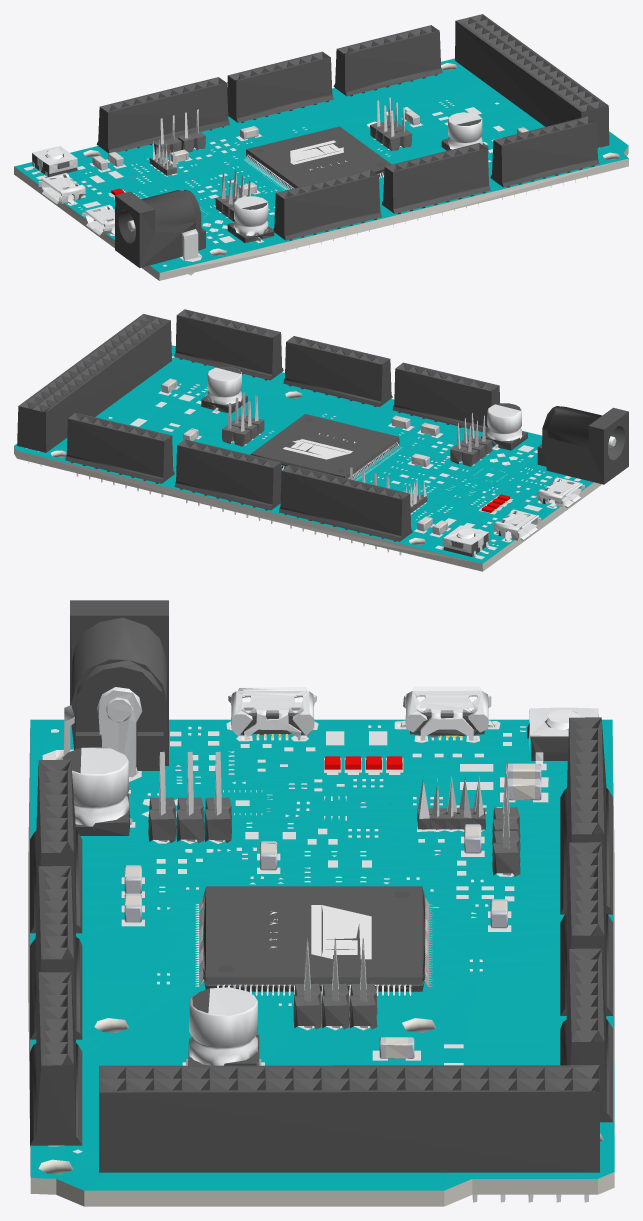
File: ARDUINO_DUE.dae
3 views of the same model, one above another, from view 1: azimuth 30°, elevation 25°; view 2: azimuth 150°, elevation 25°; view 3: azimuth 270°, elevation 25° (orthographic). The views are drawn at different scales.
Visible parts, largest first — view 1: ARDUINO DUE; view 2: ARDUINO DUE; view 3: ARDUINO DUE.
Part boxes in pixels (x1,y1,x2,y2): ARDUINO DUE: (14,14,628,280); ARDUINO DUE: (14,309,628,571); ARDUINO DUE: (28,600,614,1206).
Size of the model in its own units: 0.1035 by 0.0533 by 0.0147.
